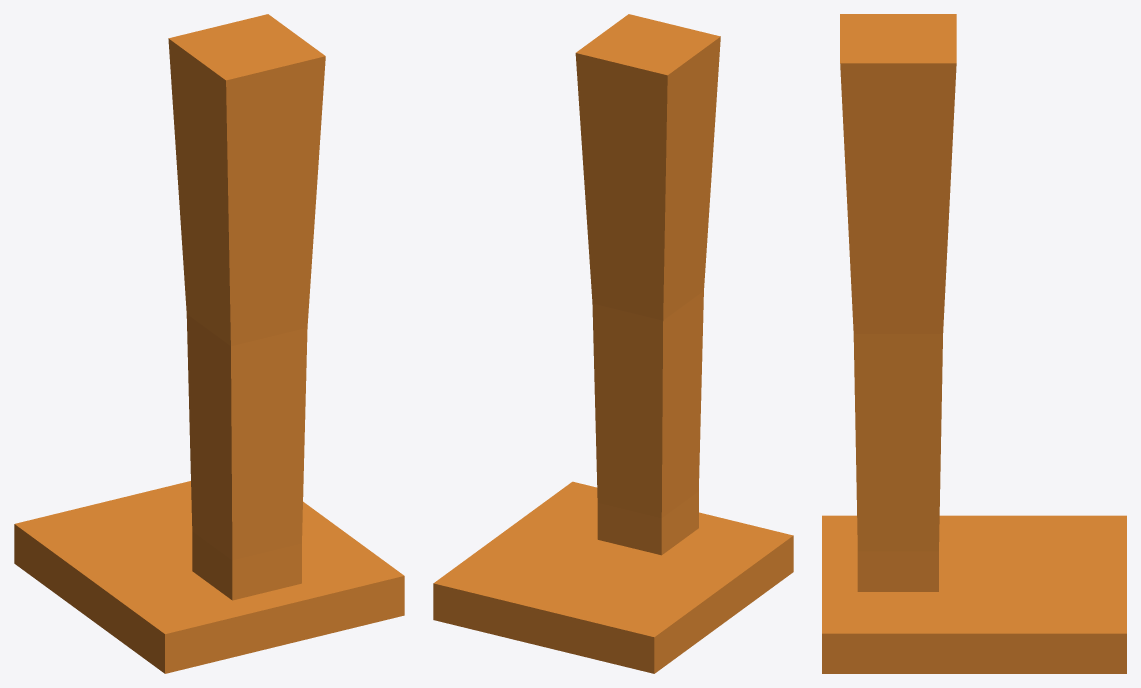
Rendered from animal_goose_leg.obj.
3 renders of one model, left to right at view 1: azimuth 30°, elevation 25°; view 2: azimuth 150°, elevation 25°; view 3: azimuth 270°, elevation 25°, orthographic. The views are drawn at different scales.
Parts seen in each view (by area): view 1: animal_goose_leg; view 2: animal_goose_leg; view 3: animal_goose_leg.
Part boxes in pixels (x1,y1,x2,y2): animal_goose_leg: (14, 14, 404, 673); animal_goose_leg: (433, 14, 793, 673); animal_goose_leg: (822, 14, 1126, 673).
Size of the model in its own units: 0.0744 by 0.1692 by 0.0811.
